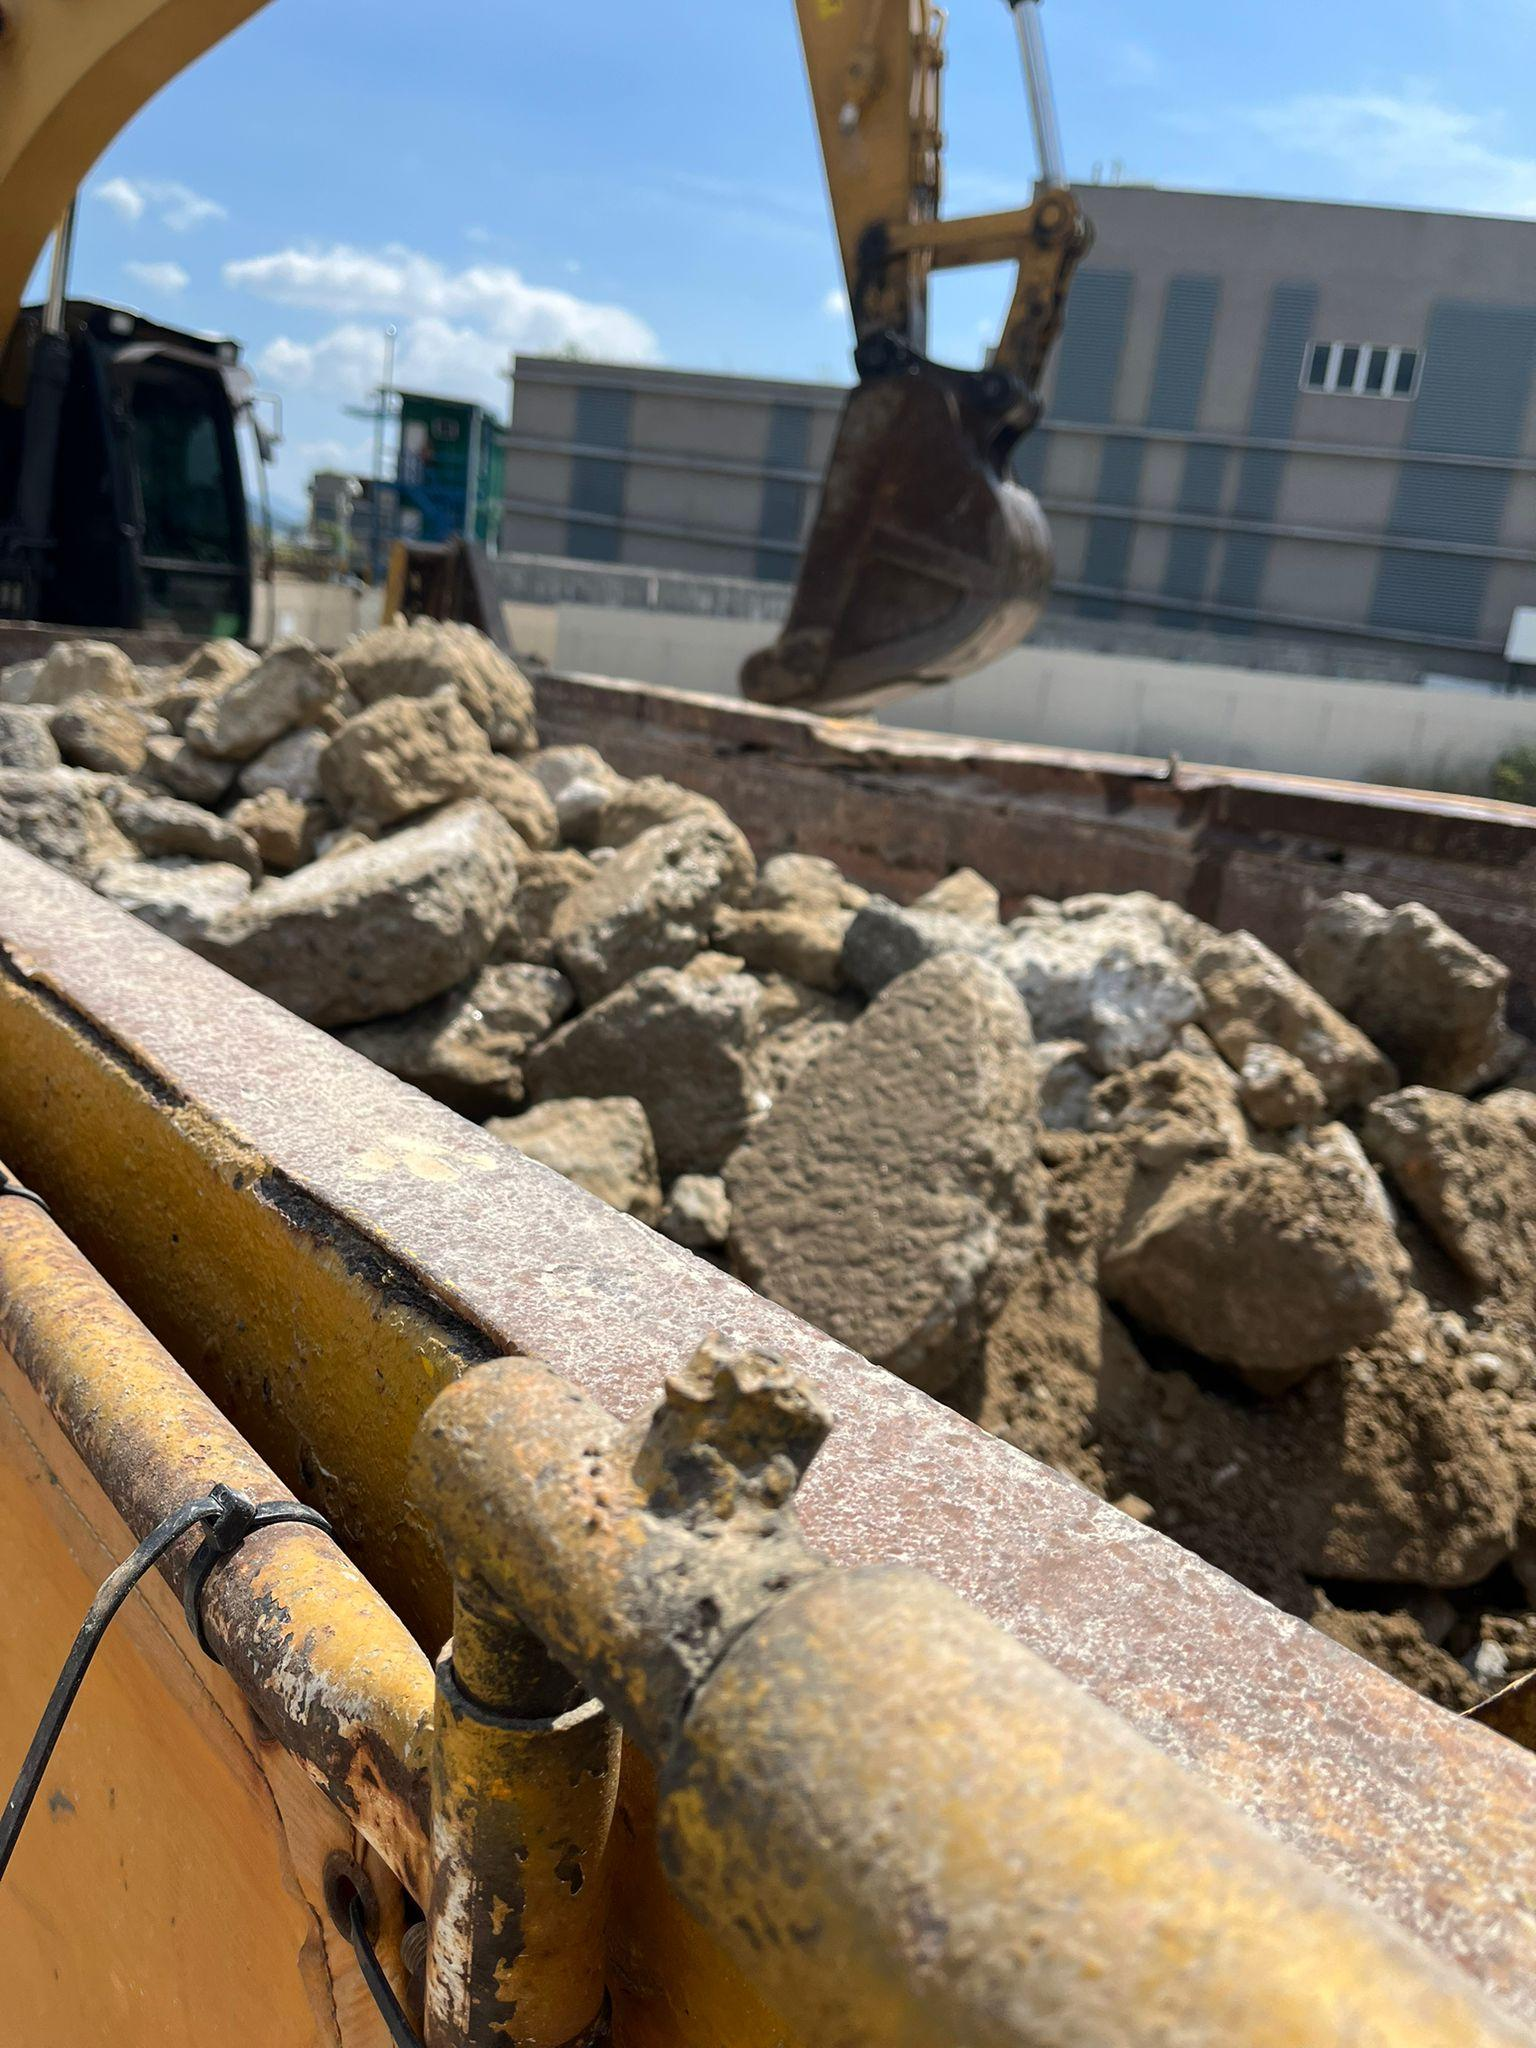dry: (0, 640, 1517, 1727)
